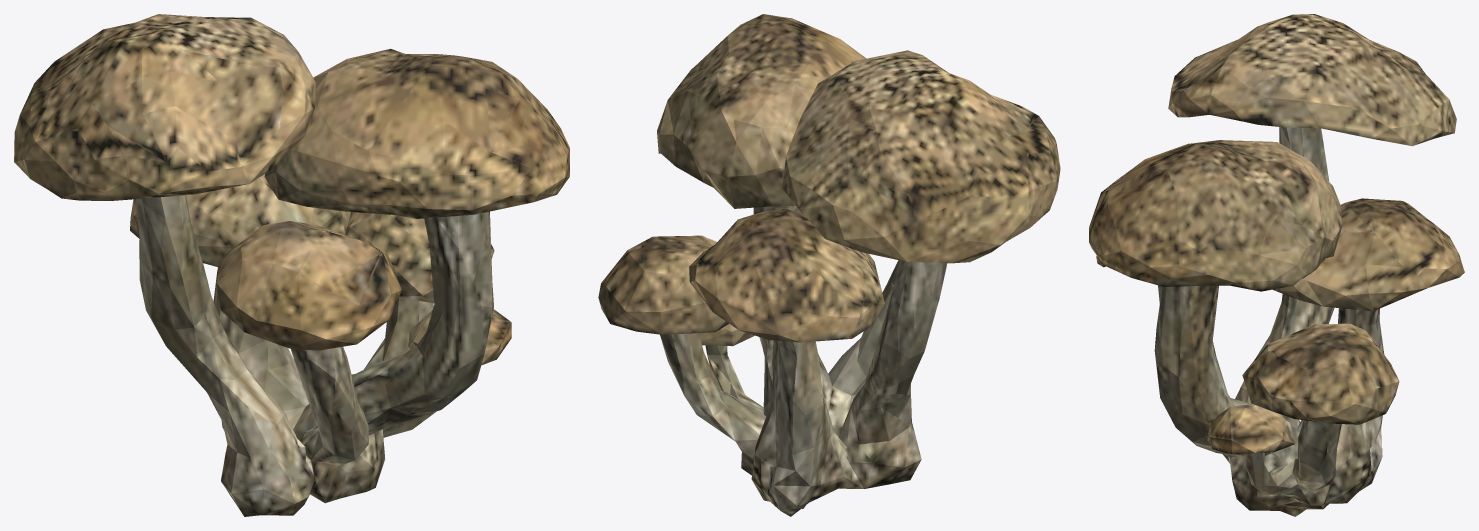
File: P_Pinggu_04.obj
The picture shows the model from 3 angles, left to right: view 1: azimuth 30°, elevation 25°; view 2: azimuth 150°, elevation 25°; view 3: azimuth 270°, elevation 25°; orthographic projection. The views are drawn at different scales.
Size of the model in its own units: 0.5625 by 0.5809 by 0.4628.
Materials: 1 (1 with a texture image).
